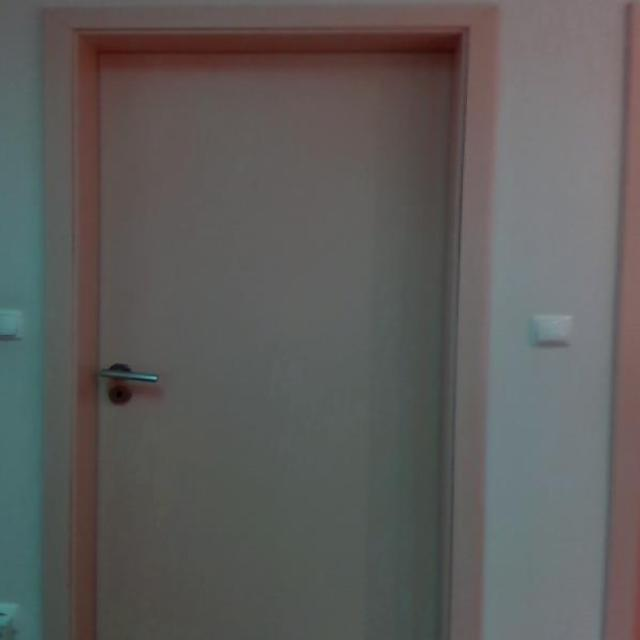door: (81, 27, 464, 639)
